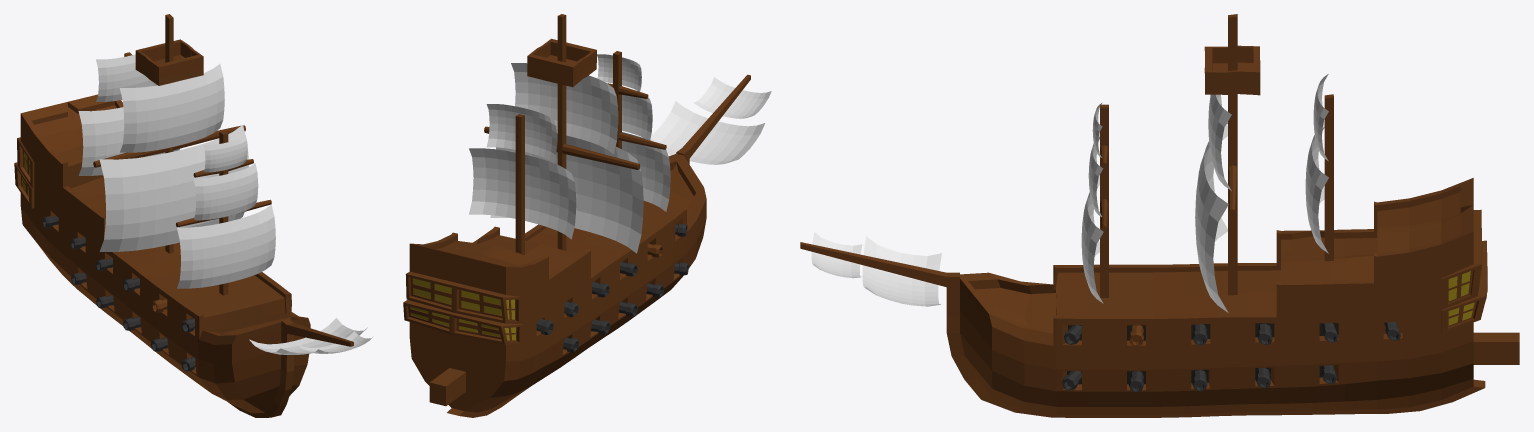
The model's file is VOC ship not using.fbx.
3 views of the same model, side by side, from view 1: azimuth 30°, elevation 25°; view 2: azimuth 150°, elevation 25°; view 3: azimuth 270°, elevation 25° (orthographic). The views are drawn at different scales.
Parts seen in each view (by area): view 1: Cube, Cube.001, Cube.002, Cube.005, Cube.006, Cube.003, Cube.004, Cube.007, Cube.008, Cube.009; view 2: Cube, Cube.003, Cube.001, Cube.002, Cube.008, Cube.004, Cube.005, Cube.009, Cube.006, Cube.007; view 3: Cube, Cube.008, Cube.001, Cube.003, Cube.002, Cube.005, Cube.009, Cube.004.
Boxes of the visible parts, left/top/right/bottom form: Cube: left=14, top=14, right=353, bottom=417; Cube.001: left=99, top=124, right=248, bottom=251; Cube.002: left=119, top=64, right=224, bottom=152; Cube.005: left=176, top=204, right=275, bottom=288; Cube.006: left=193, top=163, right=258, bottom=220; Cube.003: left=78, top=107, right=179, bottom=175; Cube.004: left=96, top=43, right=161, bottom=101; Cube.007: left=203, top=135, right=247, bottom=172; Cube.008: left=249, top=318, right=367, bottom=354; Cube.009: left=298, top=331, right=372, bottom=353; Cube: left=403, top=14, right=750, bottom=417; Cube.003: left=469, top=148, right=576, bottom=239; Cube.001: left=490, top=133, right=643, bottom=253; Cube.002: left=511, top=63, right=618, bottom=153; Cube.008: left=650, top=101, right=765, bottom=164; Cube.004: left=486, top=104, right=557, bottom=163; Cube.005: left=622, top=132, right=670, bottom=211; Cube.009: left=694, top=77, right=771, bottom=118; Cube.006: left=622, top=94, right=652, bottom=140; Cube.007: left=597, top=54, right=641, bottom=91; Cube: left=800, top=14, right=1519, bottom=417; Cube.008: left=862, top=236, right=941, bottom=306; Cube.001: left=1195, top=122, right=1228, bottom=312; Cube.003: left=1305, top=127, right=1328, bottom=253; Cube.002: left=1208, top=94, right=1231, bottom=190; Cube.005: left=1081, top=187, right=1103, bottom=303; Cube.009: left=811, top=232, right=862, bottom=278; Cube.004: left=1313, top=74, right=1328, bottom=161.
Size of the model in its own units: 319 by 686 by 1121.
